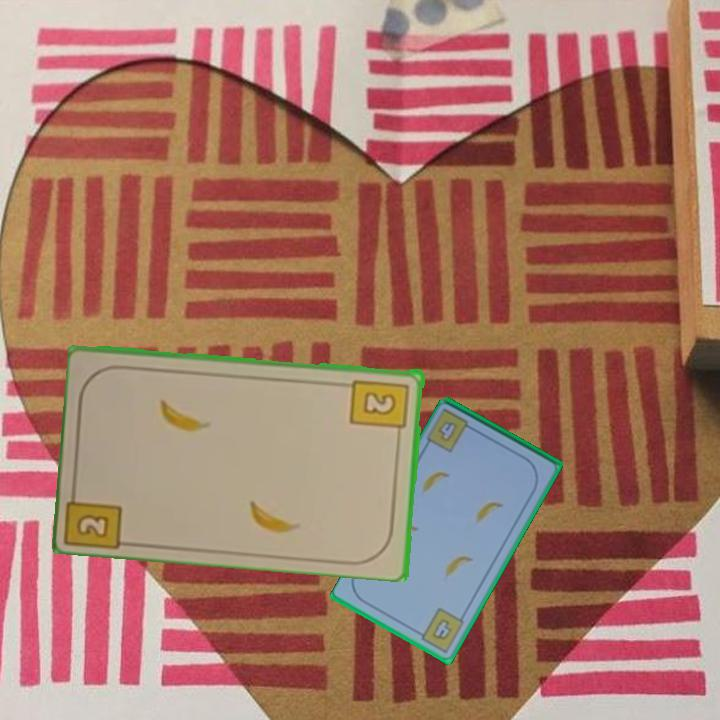2b: (65, 480, 126, 549), (348, 375, 412, 440)
4b: (413, 604, 467, 656), (435, 418, 461, 445)
